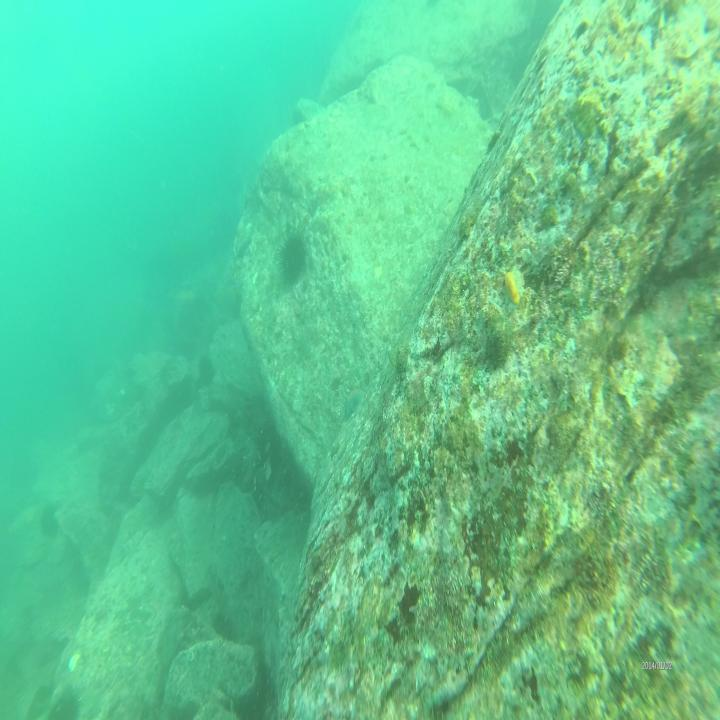echinus: (278, 227, 305, 287), (52, 685, 84, 720), (41, 493, 58, 543), (196, 348, 216, 390), (211, 610, 235, 644)
